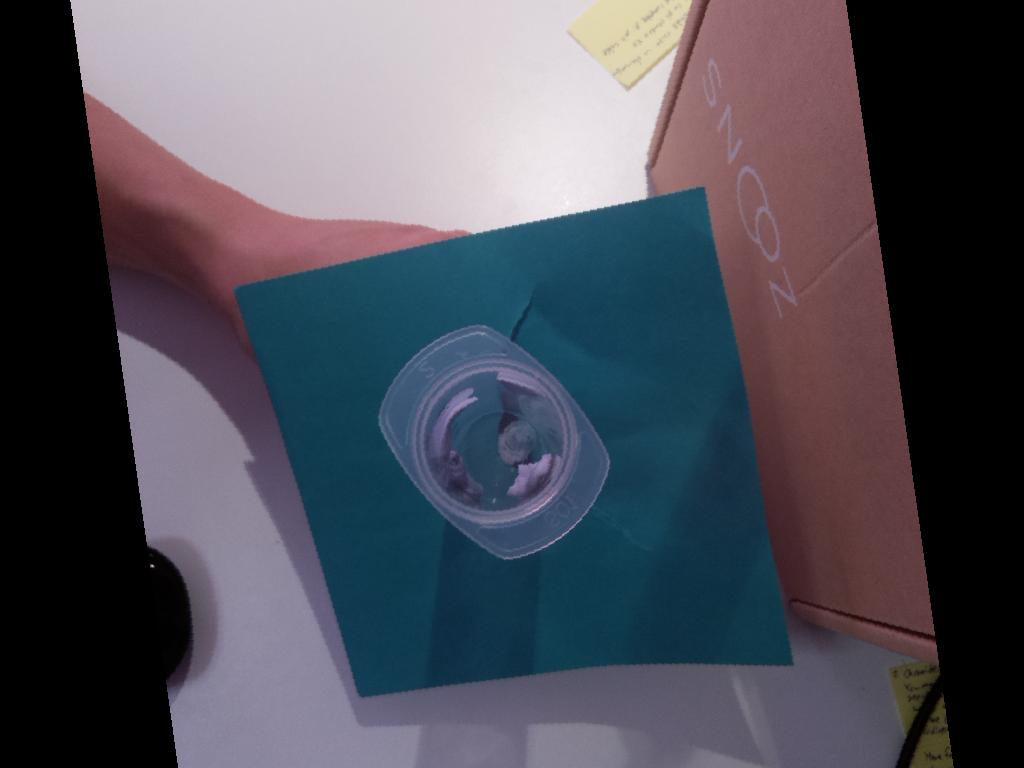dirty: (377, 323, 611, 560)
